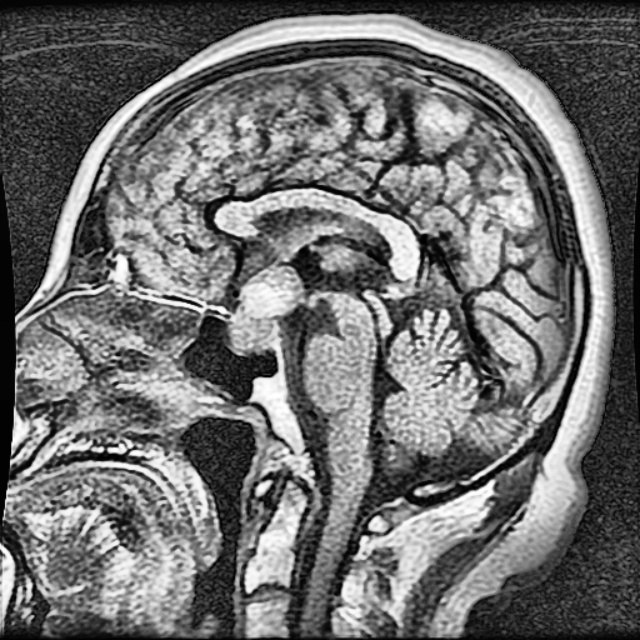Pituitary: (230, 267, 305, 353)
